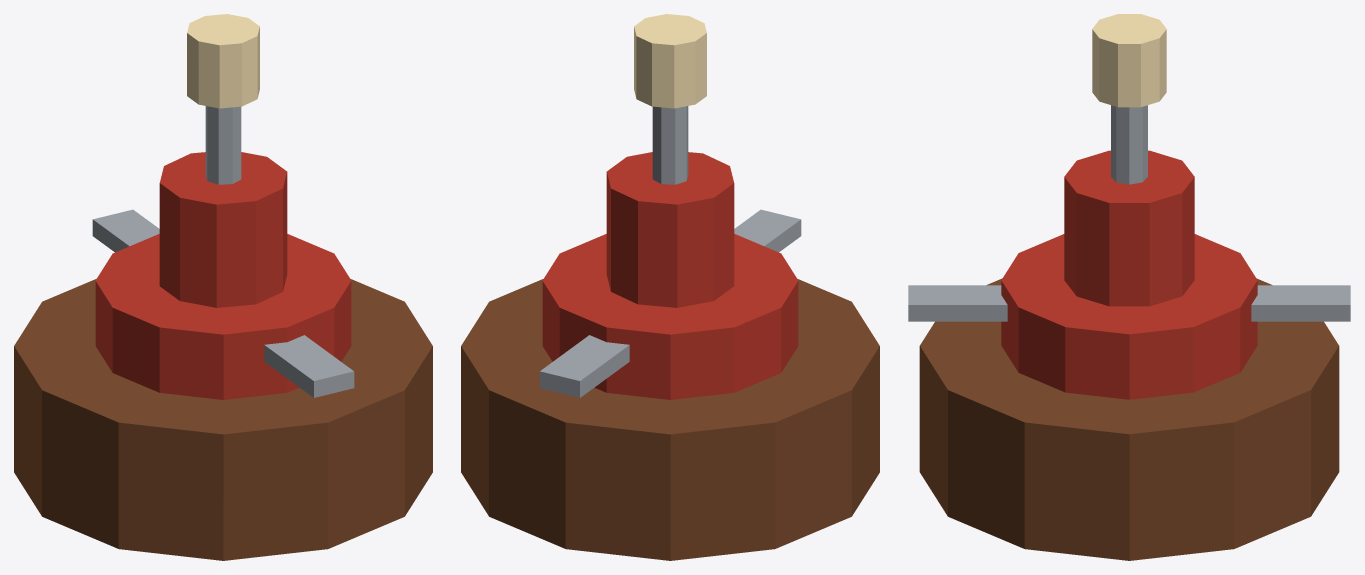
File: PRP_Buoy.fbx
3 renders of one model, left to right at view 1: azimuth 30°, elevation 25°; view 2: azimuth 150°, elevation 25°; view 3: azimuth 270°, elevation 25°, orthographic.
Visible parts, largest first — view 1: PRP_Buoy__BODY; view 2: PRP_Buoy__BODY; view 3: PRP_Buoy__BODY.
Boxes of the visible parts, bbox=[...] form: PRP_Buoy__BODY: bbox=[14, 14, 432, 560]; PRP_Buoy__BODY: bbox=[461, 14, 879, 560]; PRP_Buoy__BODY: bbox=[908, 14, 1350, 560].
Bounding box in the file's own units: 1.8 × 2.1 × 1.9.
